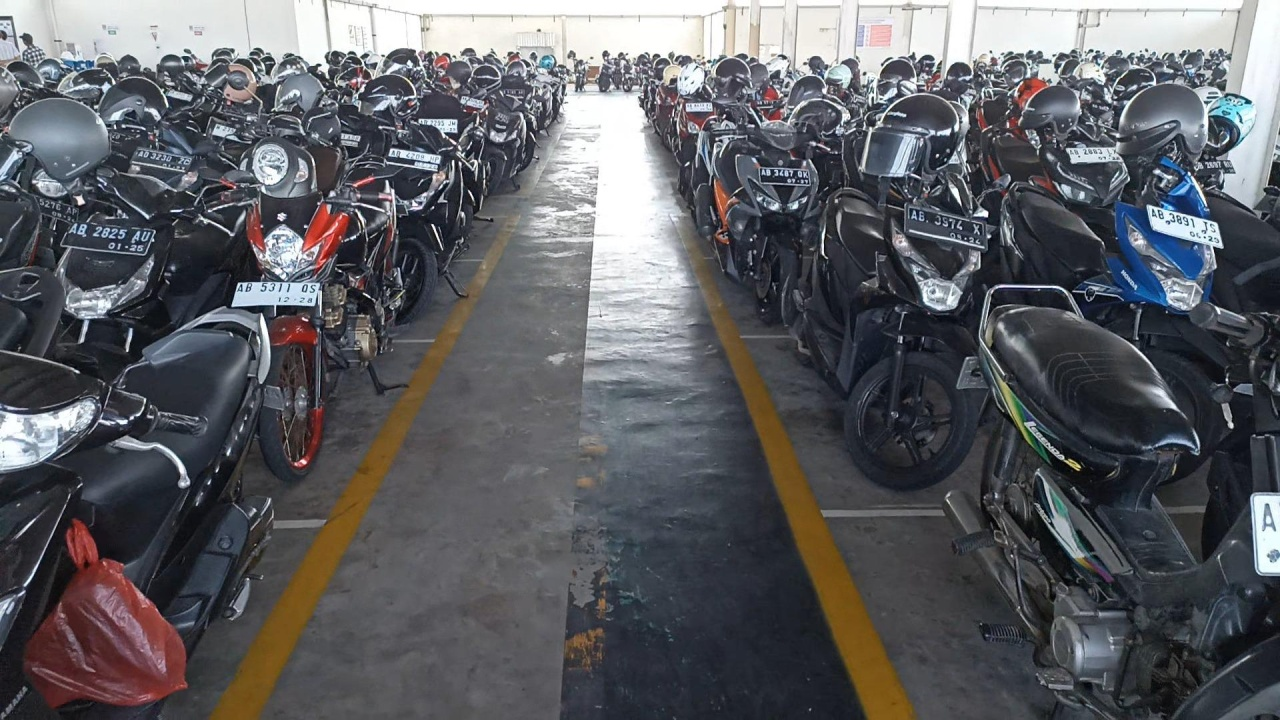plate: (906, 203, 986, 251), (1148, 204, 1224, 248), (61, 221, 155, 255), (232, 282, 319, 307), (130, 147, 193, 174), (385, 147, 442, 172), (759, 167, 811, 186)
